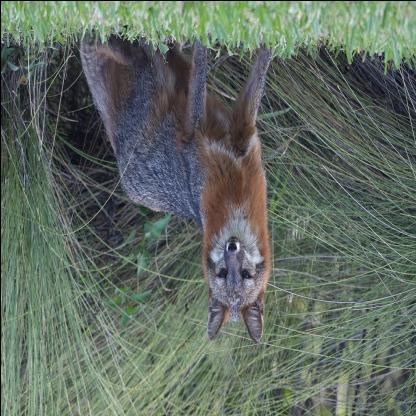zorro: (74, 24, 282, 350)
